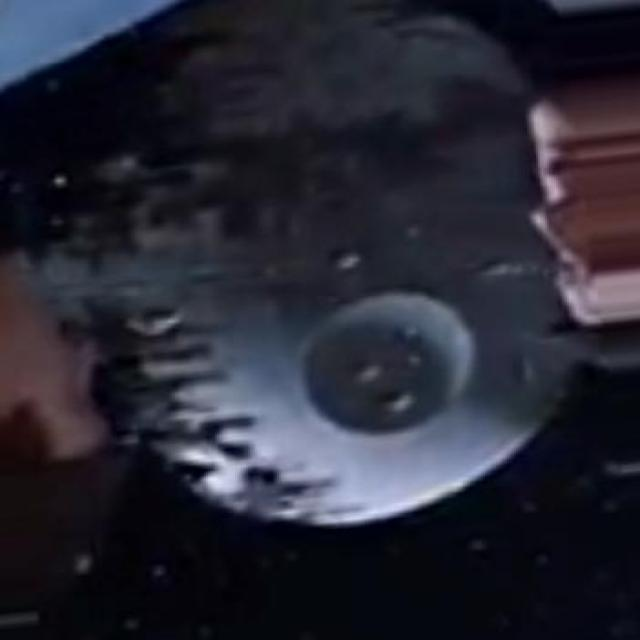deathstar: (32, 0, 590, 527)
